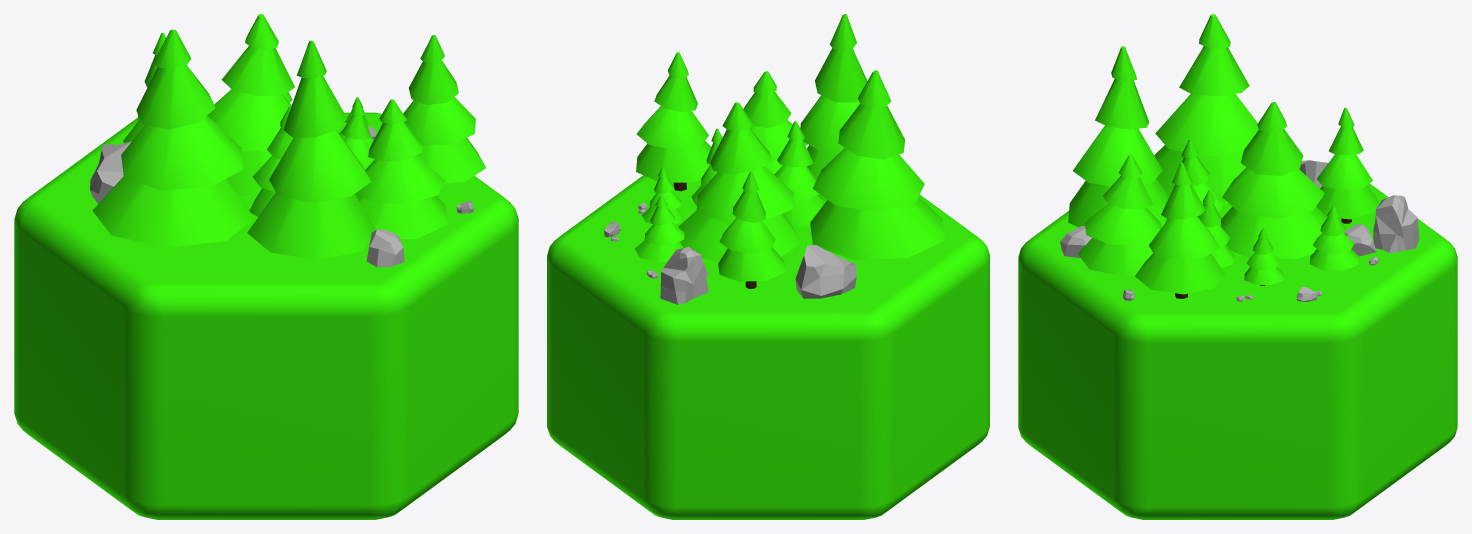
Rendered from Cell_Forest_01.fbx.
The picture shows the model from 3 angles, left to right: view 1: azimuth 30°, elevation 25°; view 2: azimuth 150°, elevation 25°; view 3: azimuth 270°, elevation 25°; orthographic projection. The views are drawn at different scales.
Parts seen in each view (by area): view 1: Cell_Forest_01; view 2: Cell_Forest_01; view 3: Cell_Forest_01.
Part boxes in pixels (box(x1,y1,x2,y2)): Cell_Forest_01: box(14, 14, 518, 519); Cell_Forest_01: box(547, 14, 989, 519); Cell_Forest_01: box(1018, 14, 1457, 519).
Bounding box in the file's own units: 173 × 190 × 194.
